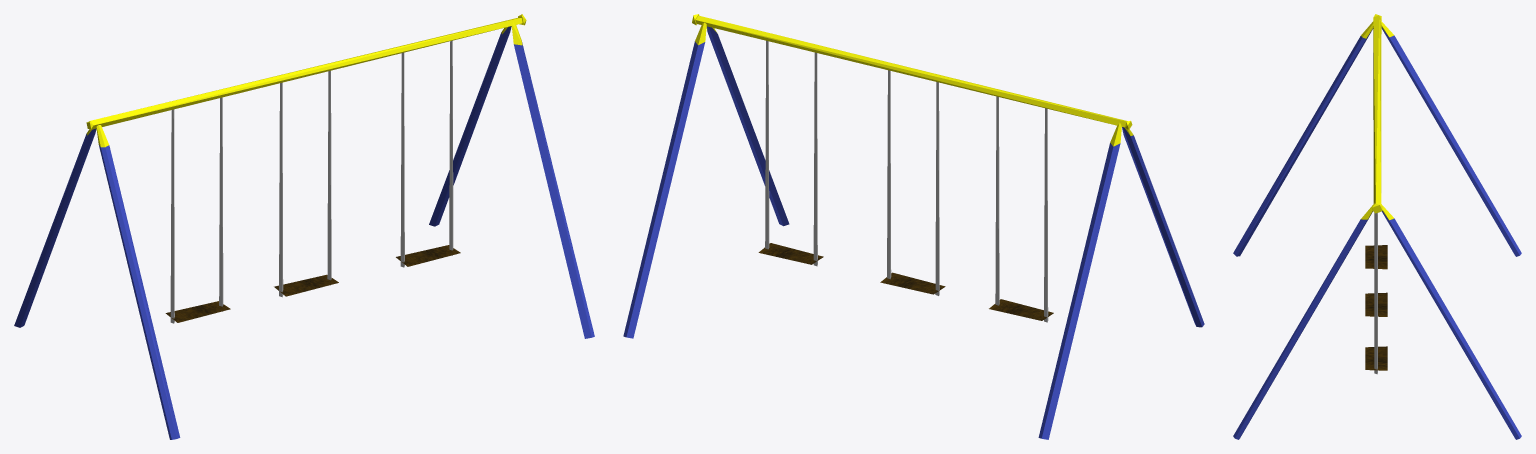
The model's file is BalancoLOD1.fbx.
The picture shows the model from 3 angles, left to right: view 1: azimuth 30°, elevation 25°; view 2: azimuth 150°, elevation 25°; view 3: azimuth 270°, elevation 25°; orthographic projection. The views are drawn at different scales.
Visible parts, largest first — view 1: Balanco.LOD1; view 2: Balanco.LOD1; view 3: Balanco.LOD1.
Part boxes in pixels (x1,y1,x2,y2): Balanco.LOD1: [14, 14, 594, 439]; Balanco.LOD1: [623, 14, 1204, 439]; Balanco.LOD1: [1233, 14, 1521, 439].
Size of the model in its own units: 373 by 216 by 237.
